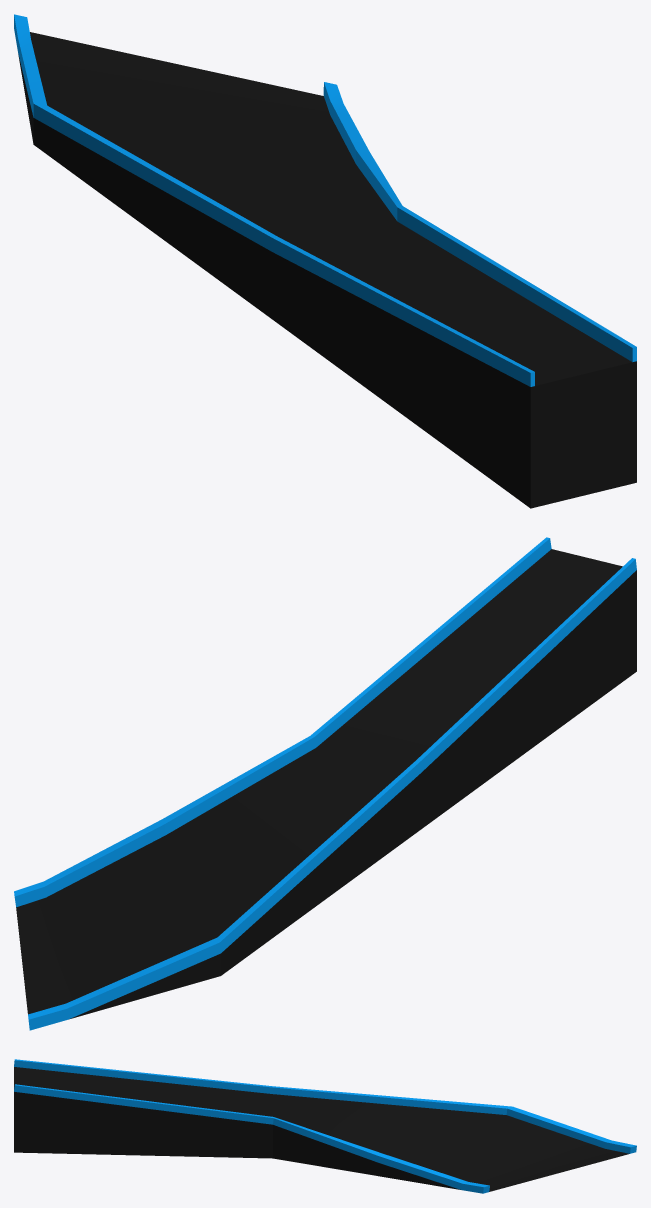
File: Ramp.FBX
3 views of the same model, one above another, from view 1: azimuth 30°, elevation 25°; view 2: azimuth 150°, elevation 25°; view 3: azimuth 270°, elevation 25° (orthographic). The views are drawn at different scales.
Parts seen in each view (by area): view 1: Ramp; view 2: Ramp; view 3: Ramp.
Boxes of the visible parts, <box> form: Ramp: <box>14,14,636,508</box>; Ramp: <box>14,537,636,1030</box>; Ramp: <box>14,1059,636,1193</box>.
Size of the model in its own units: 42.7 by 19.99 by 167.
